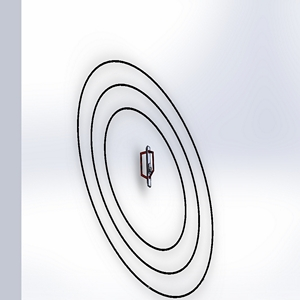circle: (64, 49, 221, 299)
submarine: (136, 139, 160, 200)
